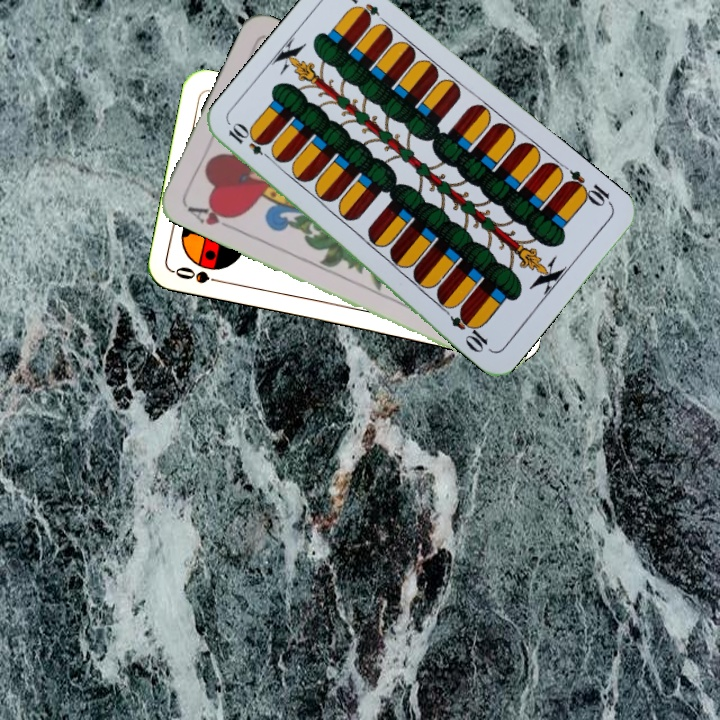E10: (560, 166, 615, 210), (224, 120, 277, 164)
HA: (183, 200, 239, 233)
SO: (171, 262, 229, 287)
